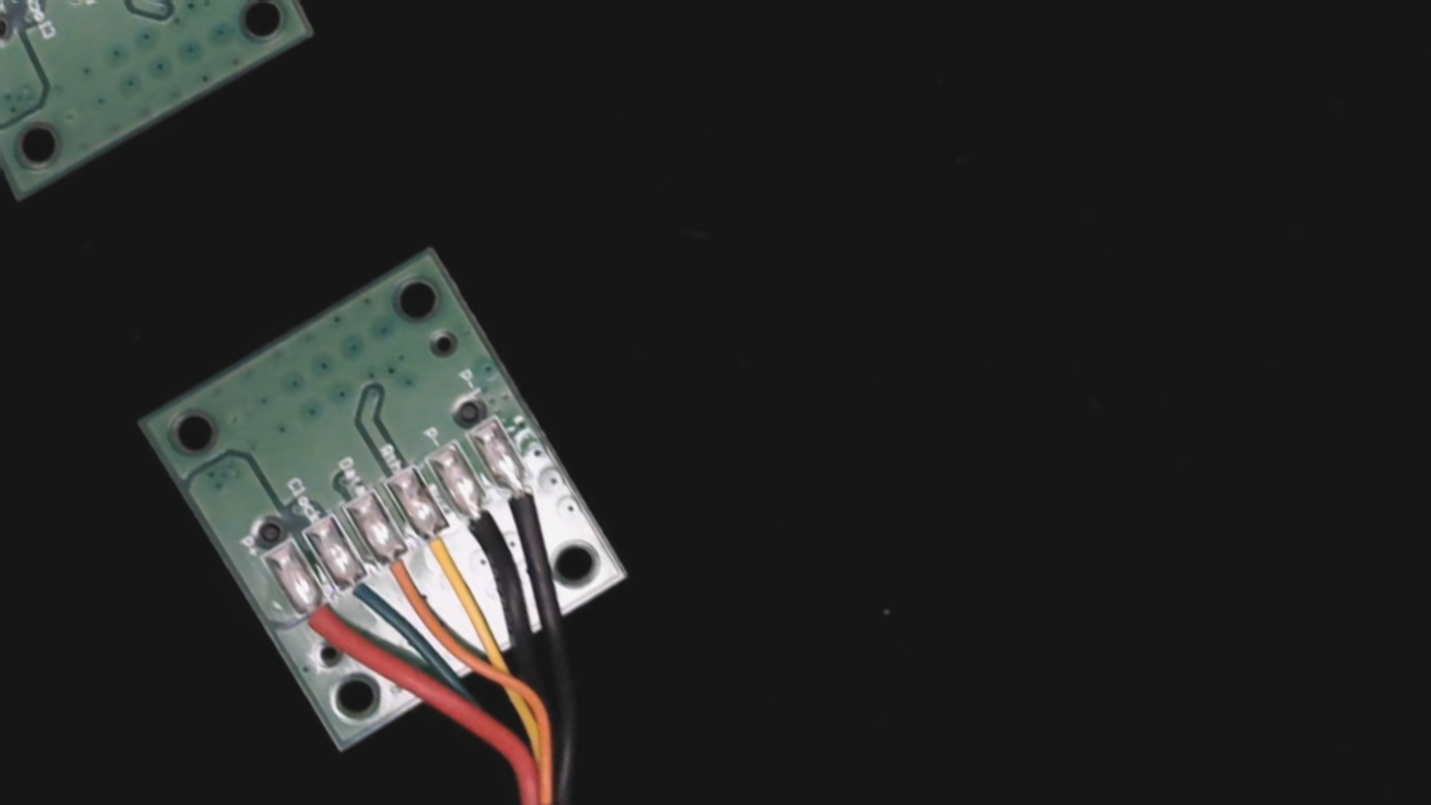Black: (443, 481, 523, 571)
Black1: (482, 456, 564, 546)
Green: (321, 552, 400, 637)
Orange: (359, 524, 443, 618)
Red: (277, 578, 362, 671)
Yellow: (398, 502, 485, 600)
